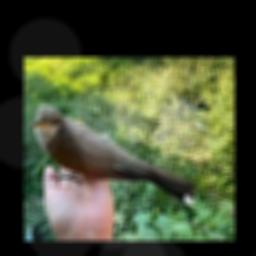Cuckoo: (29, 105, 196, 207)
